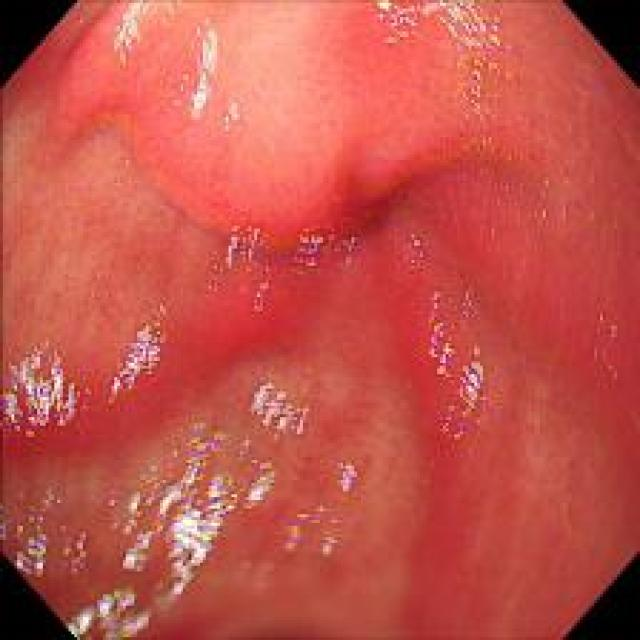blur: (1, 269, 636, 639)
color misalignment: (126, 424, 268, 559), (376, 9, 514, 128), (9, 492, 94, 581), (2, 338, 75, 438), (109, 305, 166, 405), (289, 215, 358, 284), (220, 222, 270, 308), (449, 341, 494, 432), (248, 378, 309, 435), (285, 499, 341, 556), (182, 11, 211, 114), (80, 591, 145, 635), (431, 288, 456, 374), (594, 314, 626, 379), (458, 276, 478, 331), (336, 455, 359, 496), (405, 228, 425, 269)
specularity: (124, 421, 270, 578), (26, 495, 288, 575), (364, 1, 522, 128), (210, 209, 369, 320), (399, 278, 500, 435), (1, 335, 79, 440), (2, 490, 88, 579), (108, 301, 171, 410), (62, 589, 155, 636), (246, 379, 308, 440), (188, 12, 220, 121), (282, 502, 339, 558), (116, 0, 146, 61), (220, 96, 239, 131)
